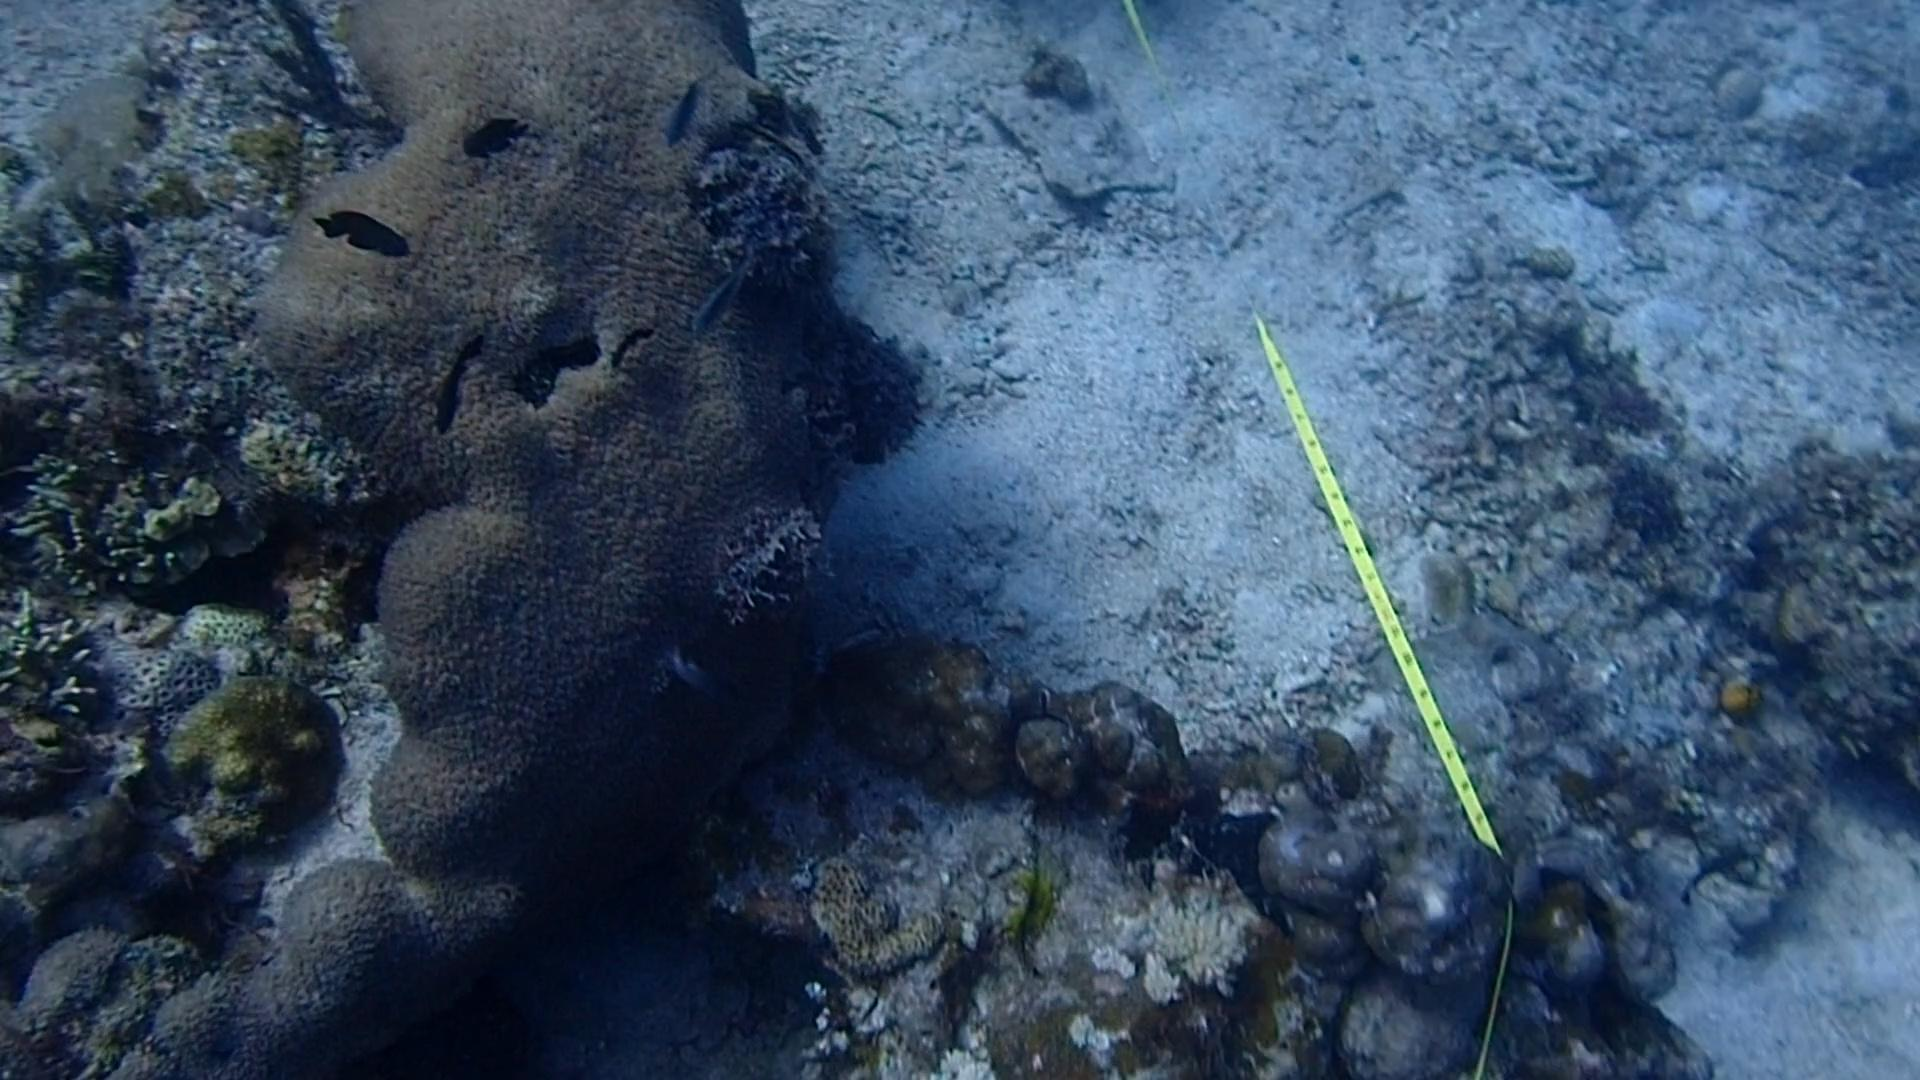Dark Fish: (299, 200, 422, 278), (423, 324, 491, 434), (1672, 831, 1750, 920), (456, 103, 549, 171), (593, 309, 663, 380)
Light Fish: (682, 252, 761, 338), (657, 642, 724, 723), (658, 70, 715, 161)
